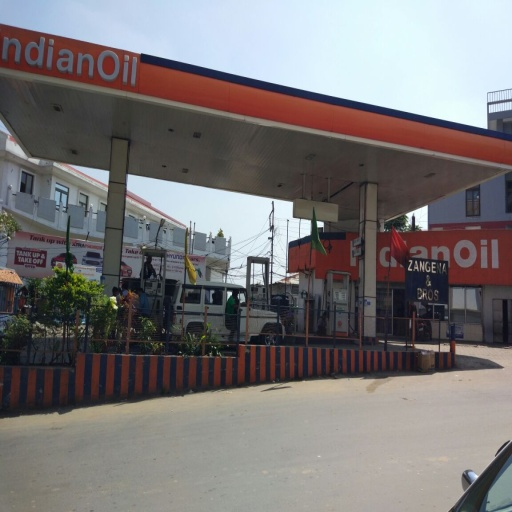roof: (1, 23, 508, 225)
